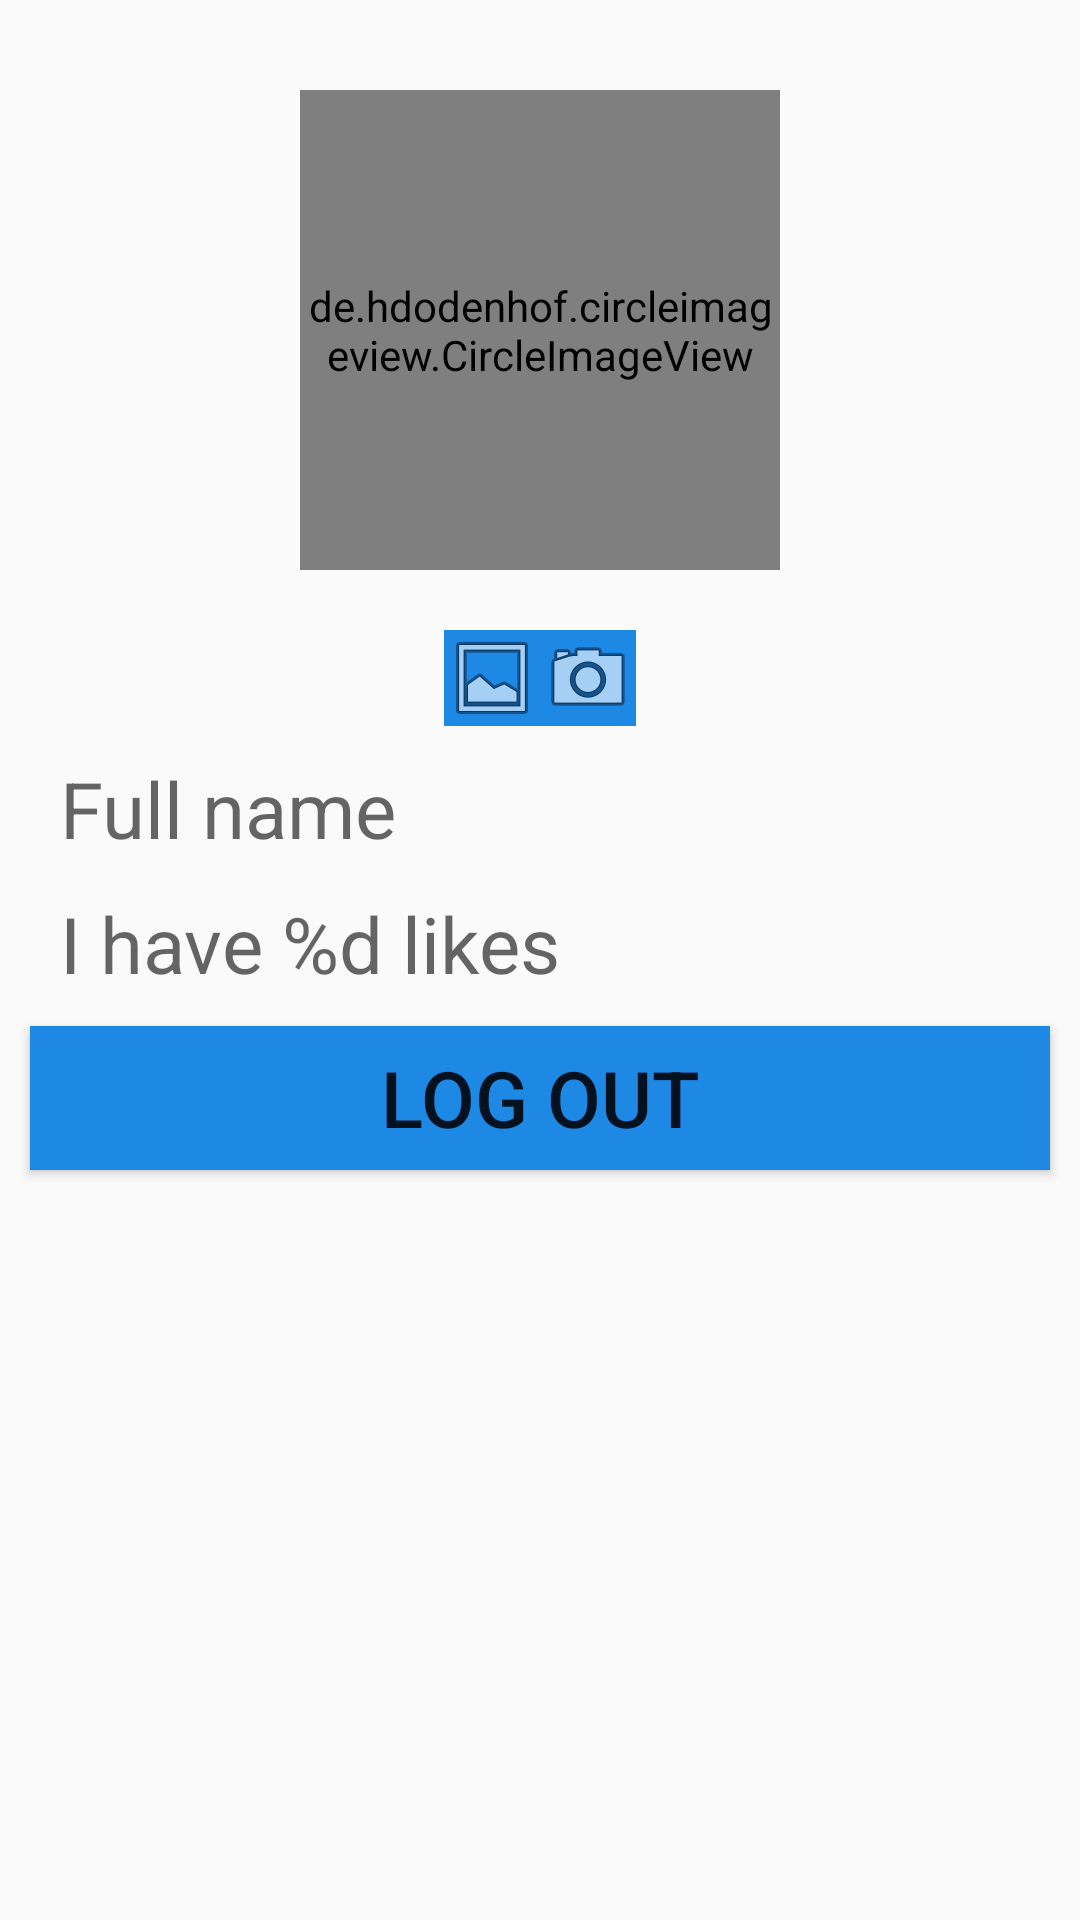

Screen size 1080×1920. Icon name, then its center in pixels as (x,y):
camera: (588,678)
gallery: (492,678)
